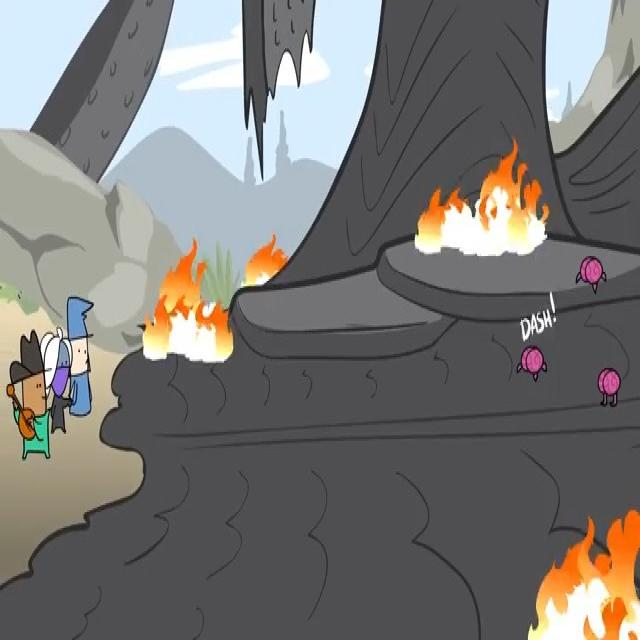Banjovi: (7, 330, 52, 460)
Josh: (67, 296, 95, 417)
miss Demeanor: (40, 327, 72, 434)
